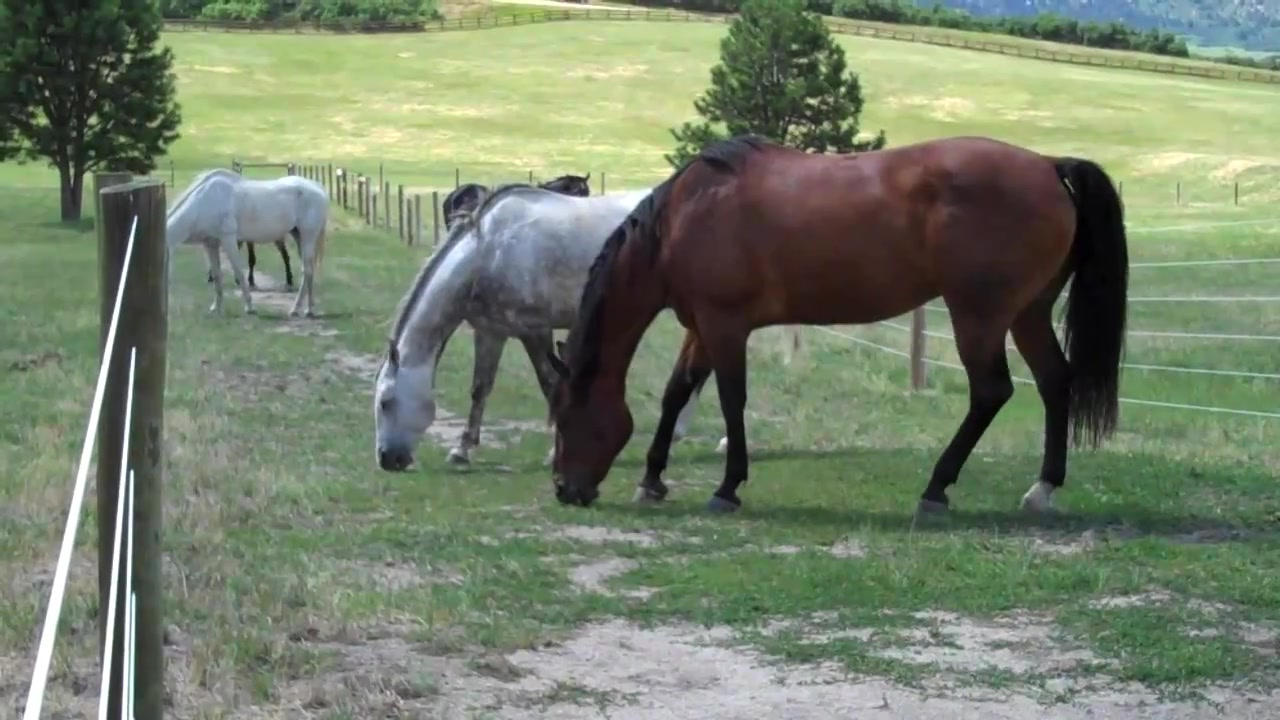horse: (547, 132, 1132, 534), (371, 183, 704, 479), (164, 168, 332, 312), (440, 174, 592, 237)
